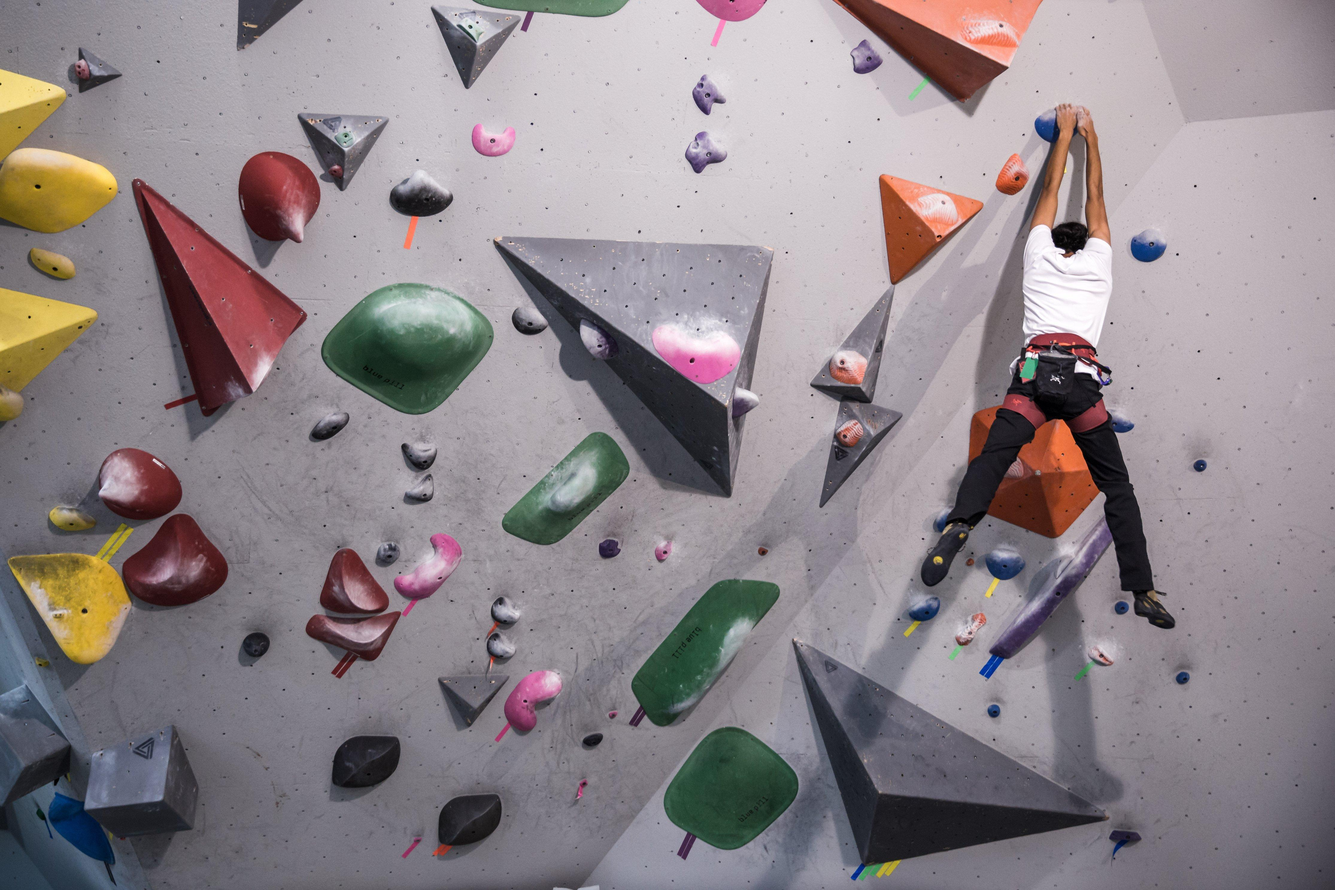black-hold: (45, 174, 314, 432), (311, 246, 506, 441), (618, 551, 787, 737), (649, 711, 810, 873), (3, 512, 153, 675), (974, 411, 1120, 561), (831, 0, 1043, 101), (496, 424, 640, 565), (986, 517, 1121, 667), (852, 172, 985, 302), (113, 505, 241, 633), (220, 140, 333, 254), (0, 286, 100, 406), (85, 437, 193, 538), (0, 148, 117, 232), (37, 784, 125, 878), (389, 527, 471, 611), (317, 544, 400, 626), (646, 323, 744, 389), (0, 69, 67, 162), (495, 658, 569, 737), (384, 161, 457, 233), (305, 611, 402, 662), (953, 395, 1003, 470), (435, 793, 504, 847), (331, 735, 402, 787), (568, 313, 623, 368), (677, 128, 730, 181), (471, 0, 629, 17), (24, 241, 81, 285), (980, 538, 1029, 588), (990, 151, 1038, 202), (45, 498, 98, 543), (1124, 223, 1173, 270), (825, 345, 871, 389), (916, 188, 960, 233), (307, 405, 355, 446), (685, 73, 728, 118), (842, 38, 886, 81), (959, 19, 1022, 48), (470, 122, 517, 159), (695, 0, 768, 22), (403, 472, 444, 511), (952, 608, 990, 650), (480, 629, 519, 667), (485, 594, 523, 633), (906, 592, 946, 629), (833, 415, 869, 451), (728, 386, 762, 424), (510, 305, 550, 337), (398, 442, 438, 472), (1032, 108, 1061, 146), (455, 15, 488, 45), (1086, 643, 1117, 673), (929, 504, 955, 536), (0, 386, 23, 422), (595, 535, 624, 563), (1003, 454, 1028, 484), (242, 632, 271, 657), (333, 126, 359, 151), (1111, 412, 1135, 433), (72, 58, 92, 83), (582, 730, 606, 750), (378, 542, 400, 563), (654, 540, 673, 561), (1109, 830, 1142, 842), (1191, 456, 1209, 475), (327, 163, 345, 179), (1113, 600, 1130, 616), (986, 703, 1002, 719), (1175, 670, 1191, 685), (33, 657, 50, 669), (756, 544, 769, 558), (964, 557, 976, 568), (578, 778, 589, 789), (608, 710, 619, 719)
